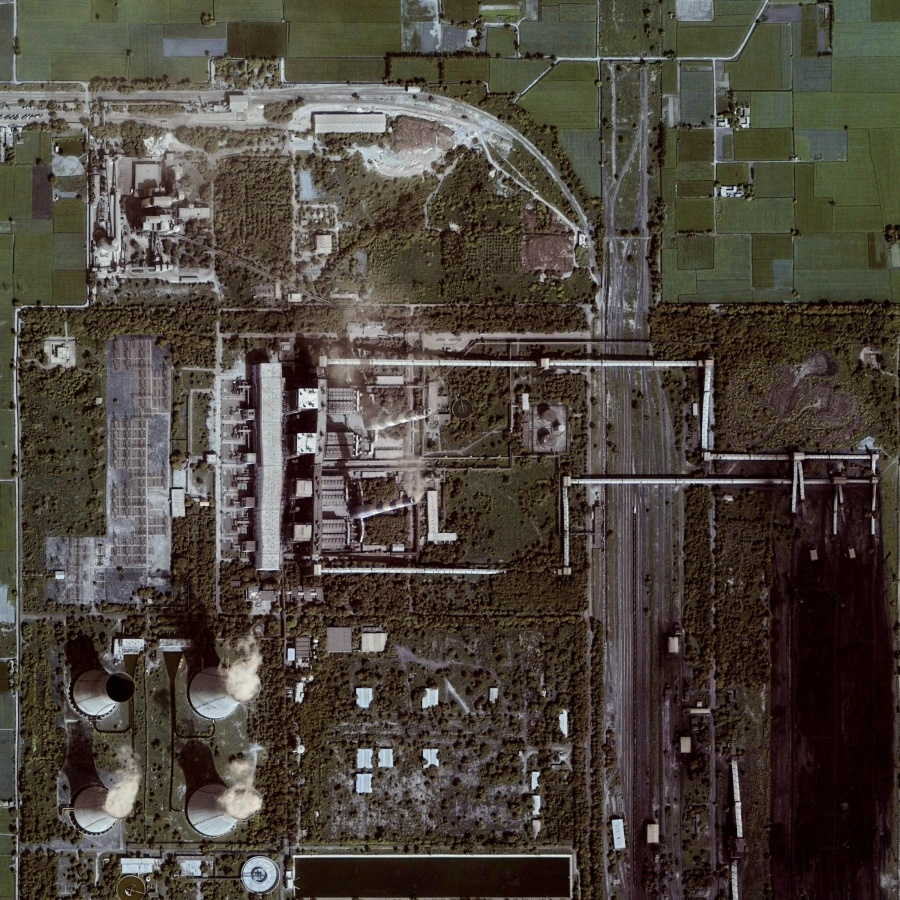PowerPlant: (40, 337, 607, 853)
